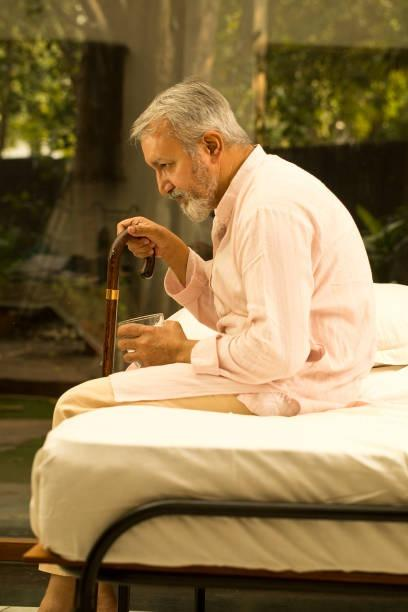Human: (37, 62, 367, 438)
